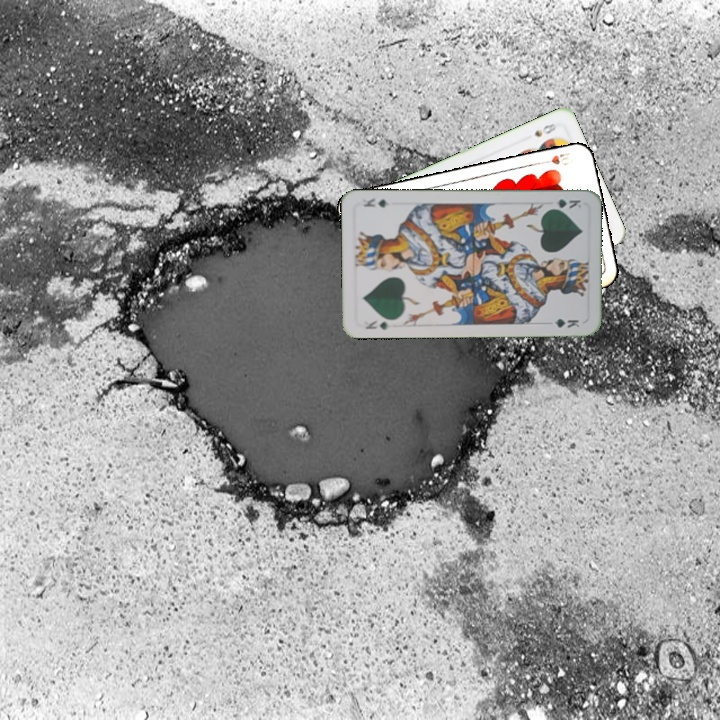GK: (545, 195, 584, 212), (362, 316, 394, 332)
H10: (536, 148, 573, 168)
S8: (530, 119, 560, 139)
